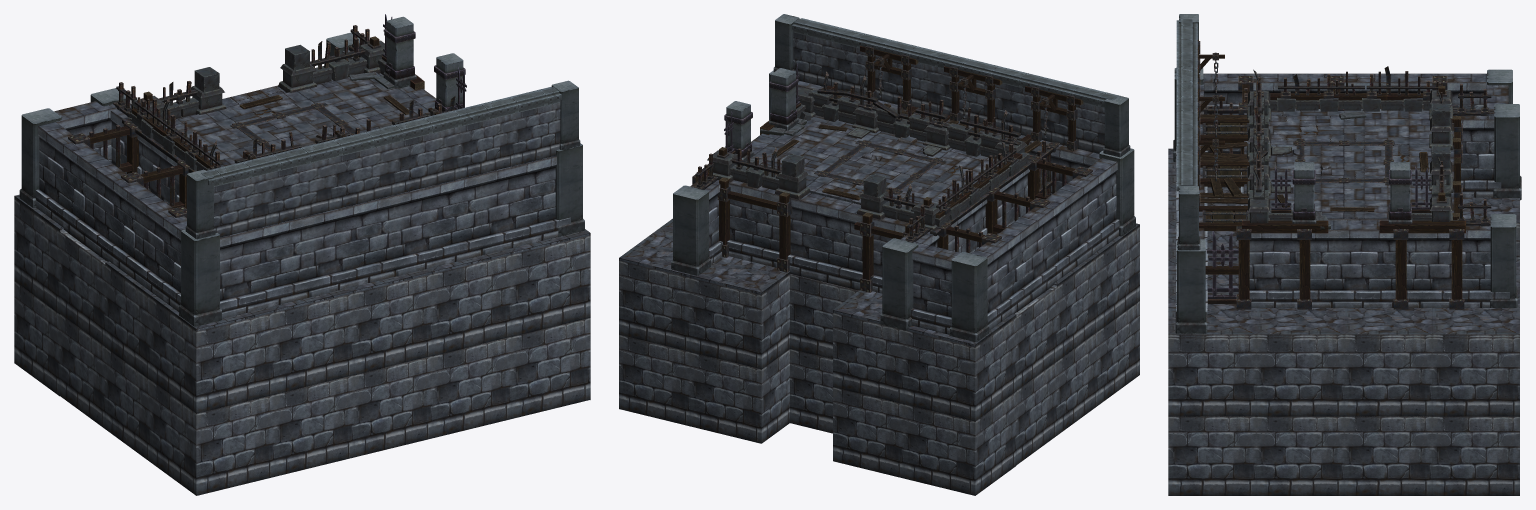
The model's file is cell2LD_RU.fbx.
The picture shows the model from 3 angles, left to right: view 1: azimuth 30°, elevation 25°; view 2: azimuth 150°, elevation 25°; view 3: azimuth 270°, elevation 25°; orthographic projection. The views are drawn at different scales.
Parts seen in each view (by area): view 1: cell2LD_RU; view 2: cell2LD_RU; view 3: cell2LD_RU.
Part boxes in pixels (x1=…): cell2LD_RU: x1=14, y1=14, x2=590, y2=495; cell2LD_RU: x1=619, y1=14, x2=1139, y2=495; cell2LD_RU: x1=1168, y1=14, x2=1521, y2=495.
Size of the model in its own units: 22.17 by 16.66 by 17.81.
